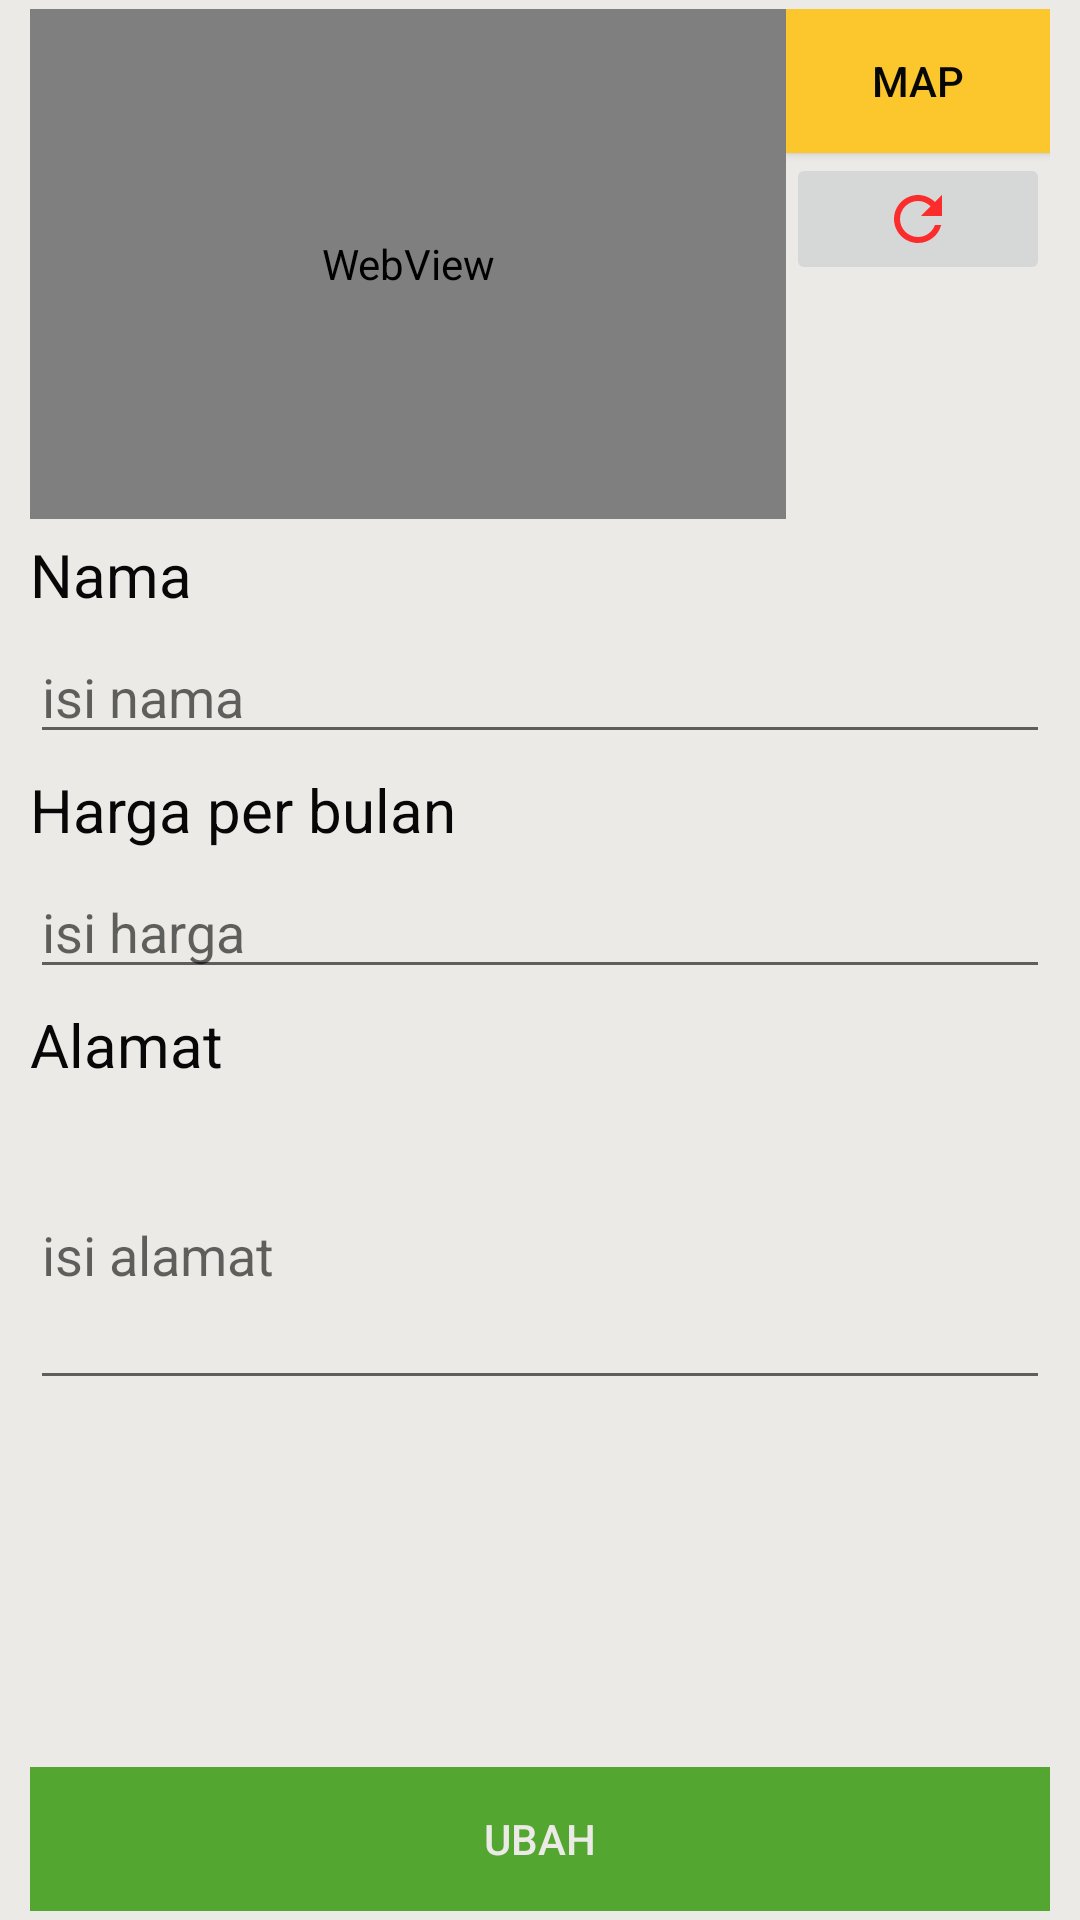

Screen size 1080×1920. Icon name, then its center in pixels as (x,y):
refresh: (918,210)
